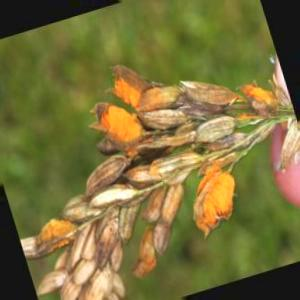Leaf_Scald: (193, 167, 236, 244), (100, 80, 150, 142), (130, 236, 159, 284), (35, 217, 74, 248), (245, 80, 274, 114)
